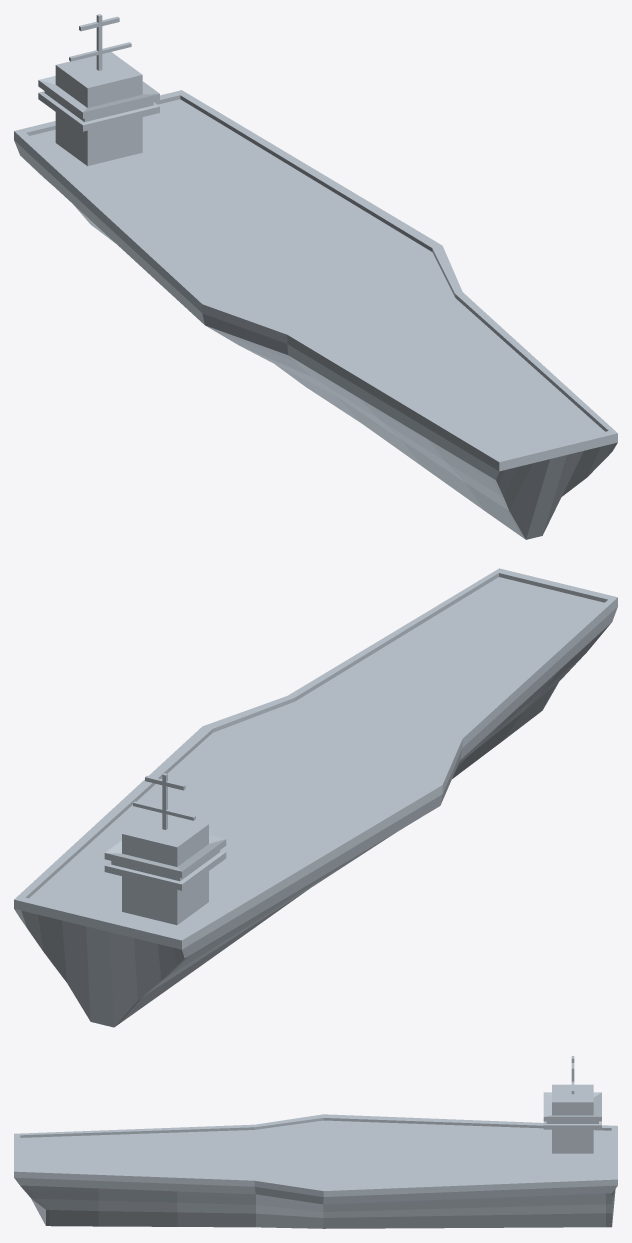
Rendered from carrier.glb.
The picture shows the model from 3 angles, top to bottom: view 1: azimuth 30°, elevation 25°; view 2: azimuth 150°, elevation 25°; view 3: azimuth 270°, elevation 25°; orthographic projection. The views are drawn at different scales.
Parts seen in each view (by area): view 1: deck, beck, Cube, ranway, deck number, antennae, ranway.001; view 2: deck, beck, Cube, ranway, deck number, antennae; view 3: beck, deck, Cube, ranway, deck number, ranway.001.
Boxes of the visible parts, x1,y1,x2,y2 form: deck: (30, 99, 604, 457); beck: (14, 90, 617, 539); Cube: (38, 52, 159, 165); ranway: (155, 160, 542, 437); deck number: (444, 387, 586, 447); antennae: (69, 14, 131, 70); ranway.001: (150, 115, 398, 262); deck: (29, 577, 604, 934); beck: (14, 568, 617, 1027); Cube: (104, 811, 226, 924); ranway: (211, 600, 546, 838); deck number: (442, 587, 584, 647); antennae: (133, 773, 195, 829); beck: (14, 1114, 617, 1228); deck: (20, 1120, 611, 1187); Cube: (543, 1084, 601, 1153); ranway: (41, 1152, 531, 1156); deck number: (38, 1139, 106, 1168); ranway.001: (321, 1166, 596, 1178).
Bounding box in the file's own units: 1.31 × 1.23 × 4.34.
